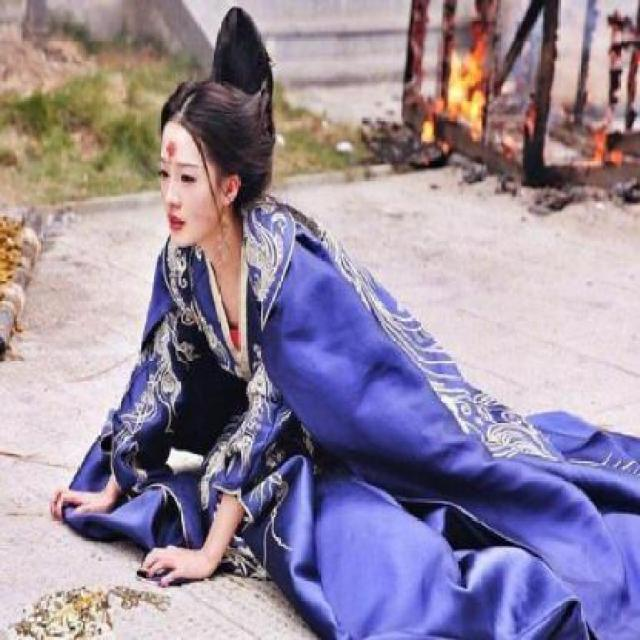fall: (43, 32, 639, 611)
